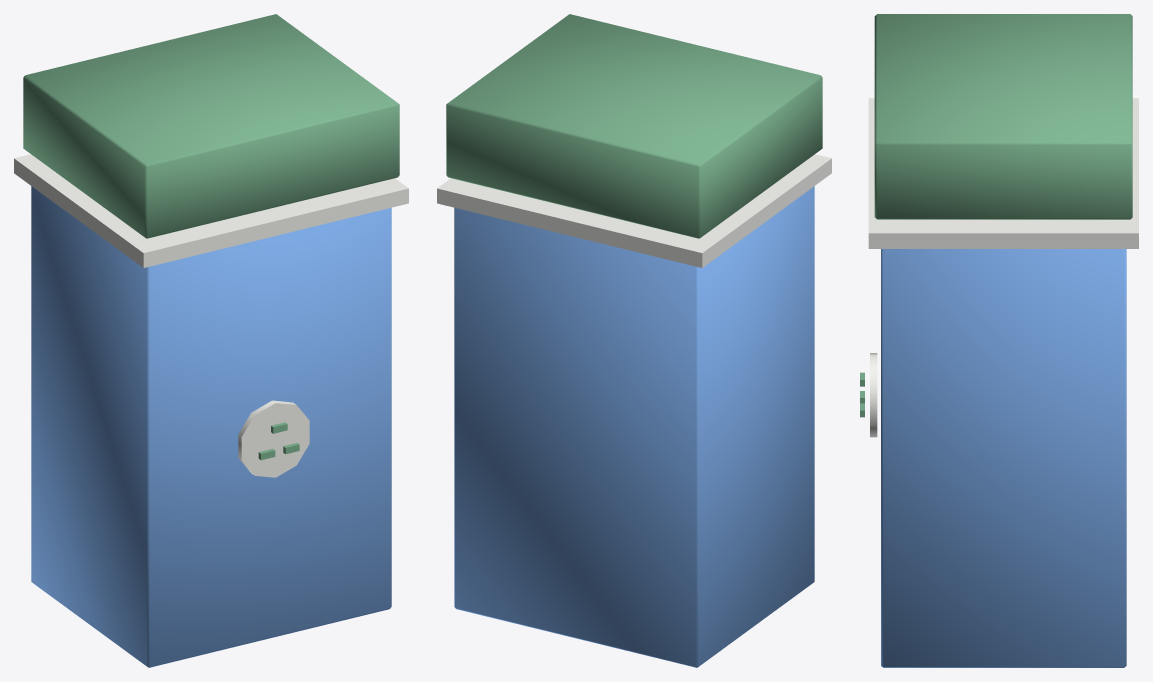
File: RecyclingBin.fbx
3 renders of one model, left to right at view 1: azimuth 30°, elevation 25°; view 2: azimuth 150°, elevation 25°; view 3: azimuth 270°, elevation 25°, orthographic. The views are drawn at different scales.
Parts seen in each view (by area): view 1: LOD0; view 2: LOD0; view 3: LOD0.
Boxes of the visible parts, box(x1,y1,x2,y2) form: LOD0: box(14, 14, 408, 667); LOD0: box(437, 14, 831, 667); LOD0: box(860, 14, 1138, 667).
Size of what is drawn, in the model's own units: 52 by 95 by 45.4.
